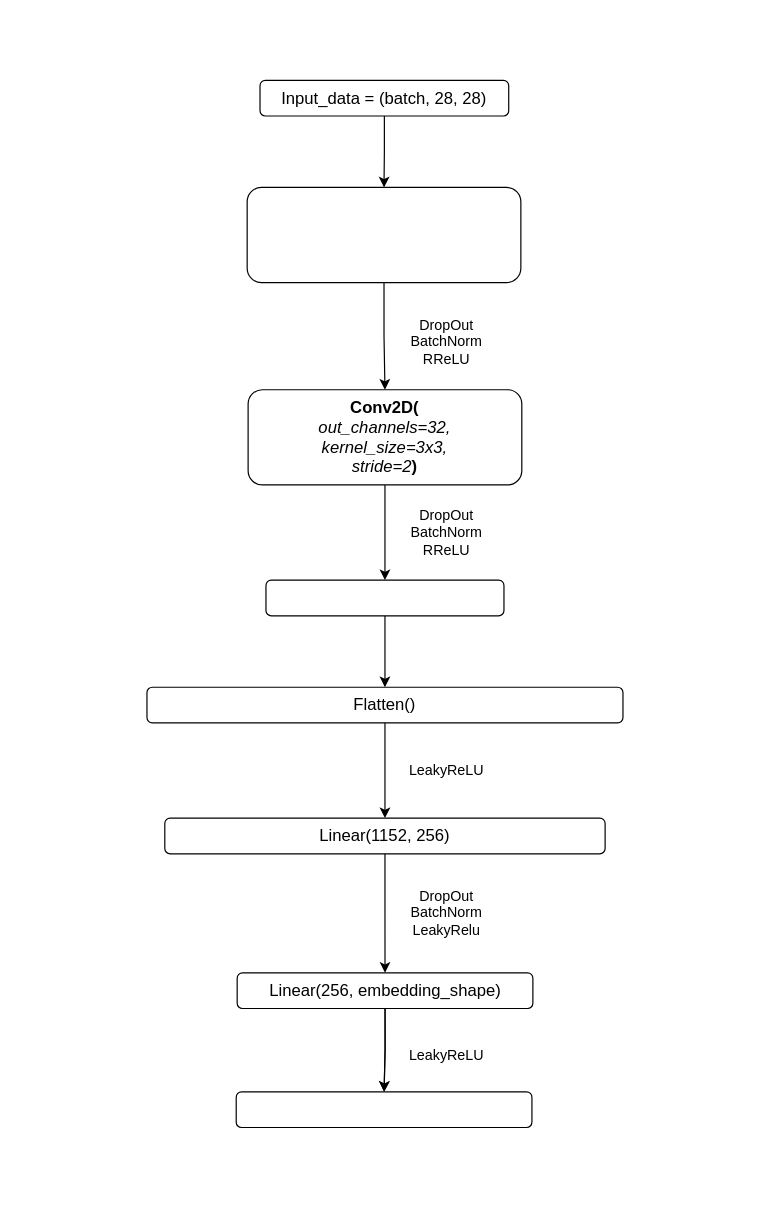
Some shapes in this 768 by 1207 pixel diagram are drawn without their labels. The shapes that lost their labels are listed below. From the top down, each one's centre as x and y in pixels, then its label:
At point 383,234: "Conv2D ( out_channels=16, kernel_size=2x2, stride=1 )".
At point 384,597: "MaxPool(2x2)".
At point 383,1109: "output".
